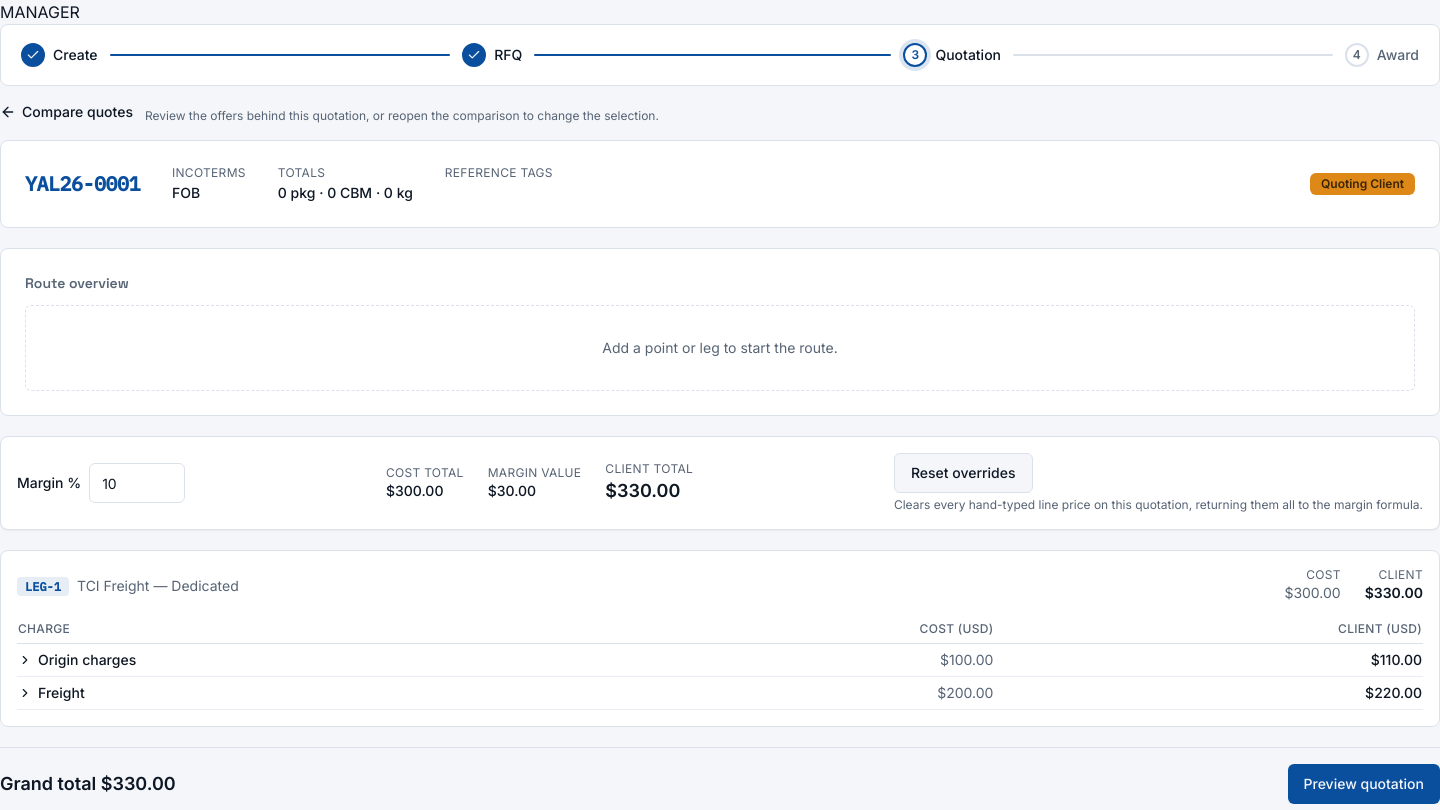
Test: QuotationPage › shows forwarder cost and client price for every line
Click the button "Origin charges" at [77, 660], box [18,650,136,670]
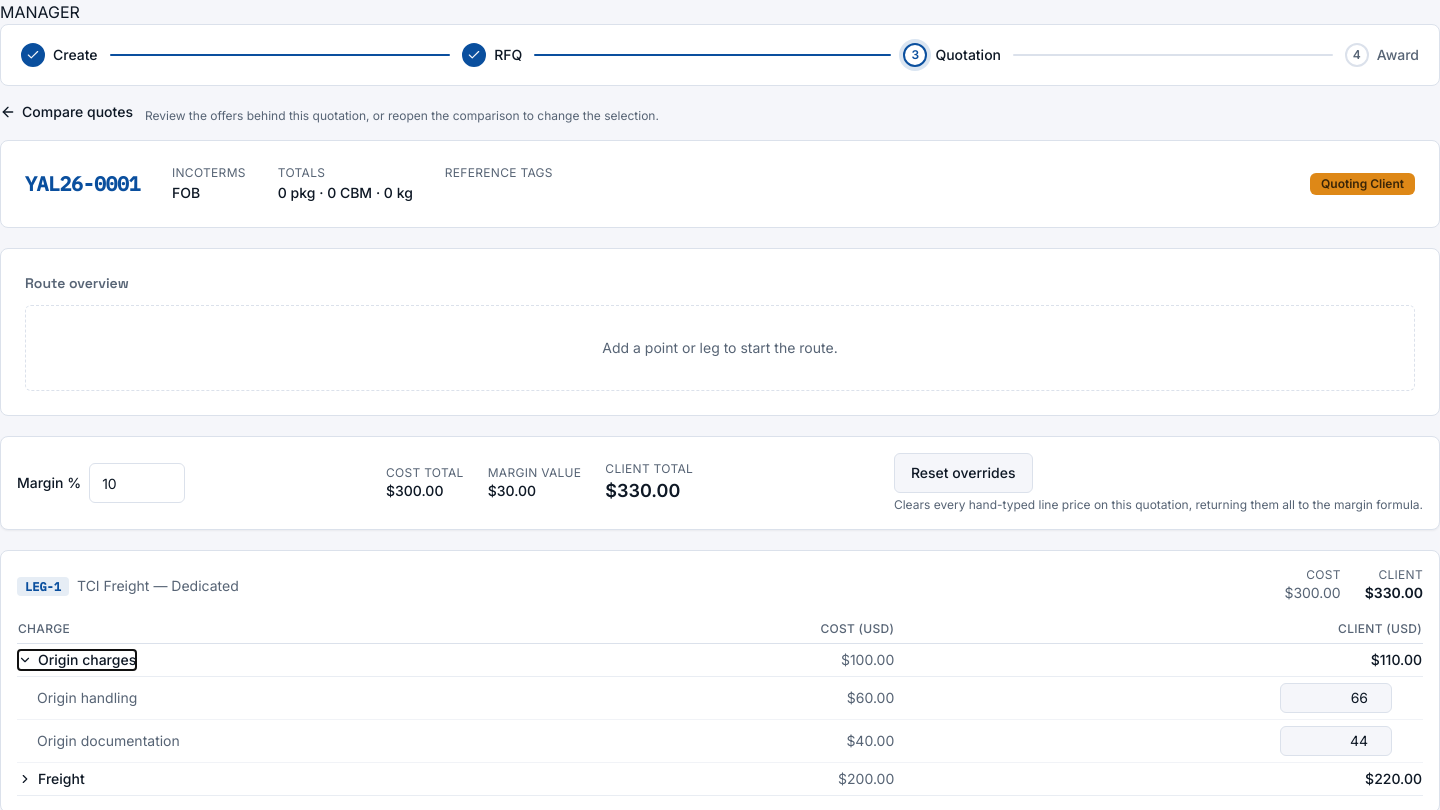
Check: the text "$60.00" is shown, box [617,676,895,720]
Check: the number field showing "66" is shown, box [1280,683,1392,713]
Check: the text "$40.00" is shown, box [617,720,895,762]
